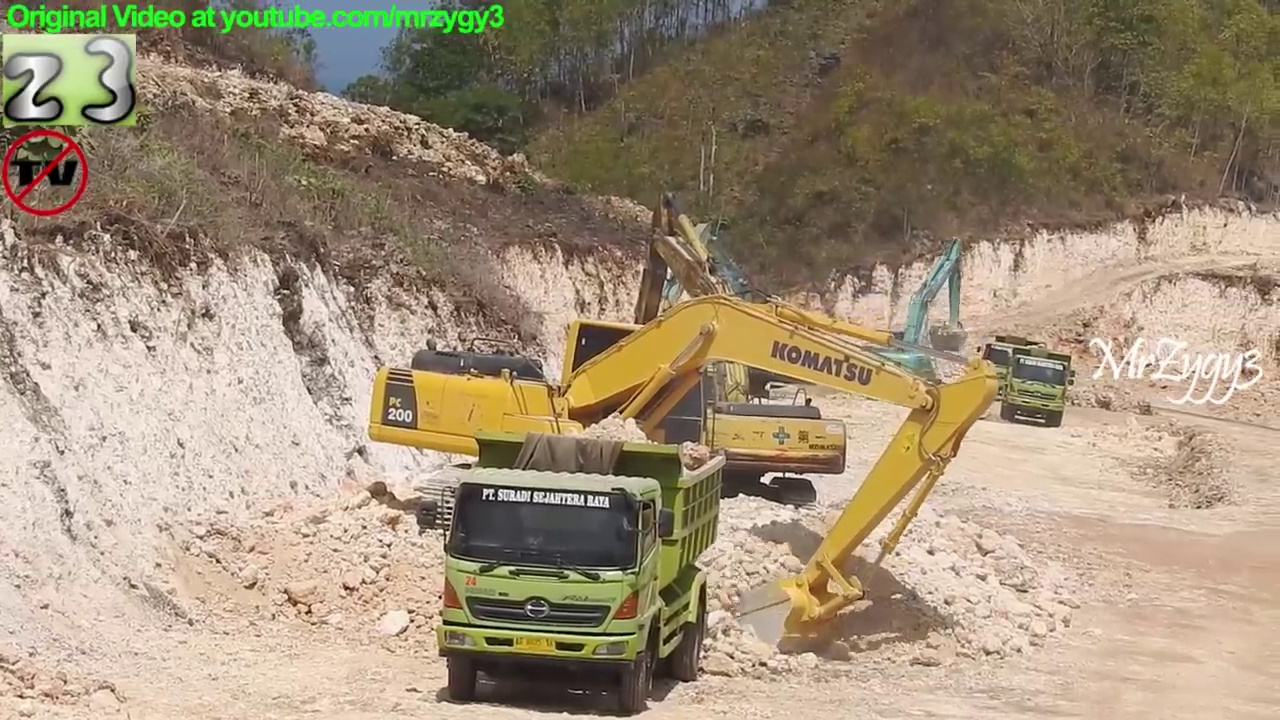excavator: (362, 293, 1005, 658), (600, 188, 853, 523), (633, 219, 824, 423), (841, 231, 972, 406)
truck: (412, 424, 733, 717), (995, 345, 1079, 431), (975, 330, 1053, 406)
